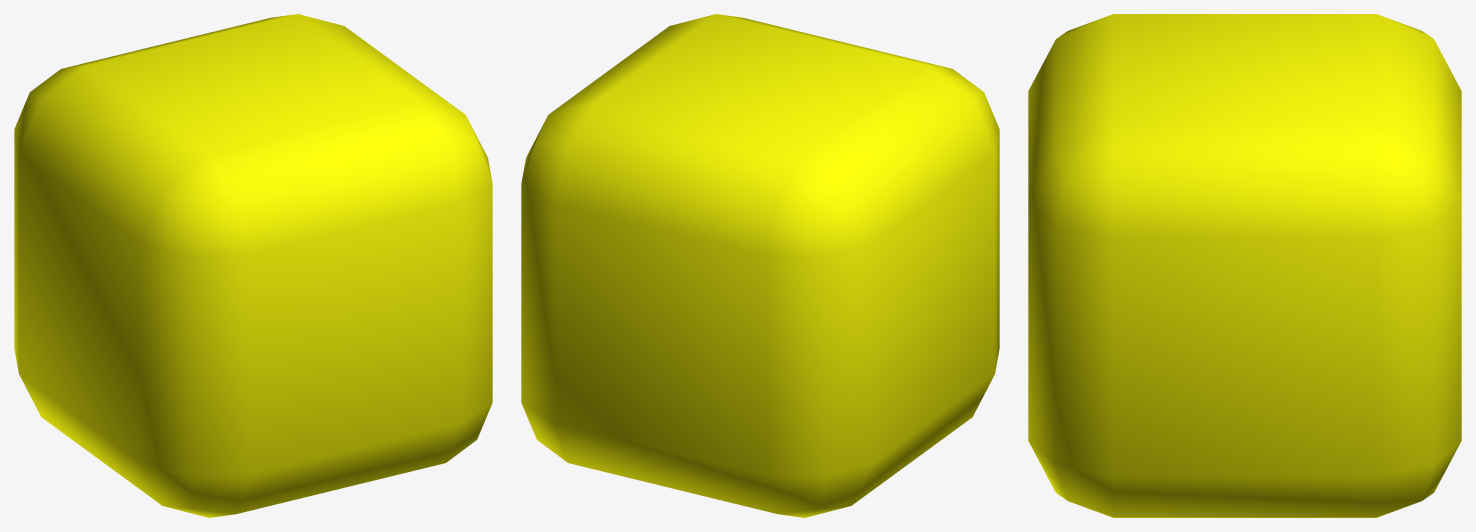
The model's file is kaykit-bush-2-b-color-1.glb.
3 renders of one model, left to right at view 1: azimuth 30°, elevation 25°; view 2: azimuth 150°, elevation 25°; view 3: azimuth 270°, elevation 25°, orthographic. The views are drawn at different scales.
Parts seen in each view (by area): view 1: Bush_2_B_Color1; view 2: Bush_2_B_Color1; view 3: Bush_2_B_Color1.
Boxes of the visible parts, x1,y1,x2,y2 form: Bush_2_B_Color1: (14,14,492,517); Bush_2_B_Color1: (521,14,999,517); Bush_2_B_Color1: (1028,14,1461,517).
Size of the model in its own units: 0.858 by 0.858 by 0.858.
